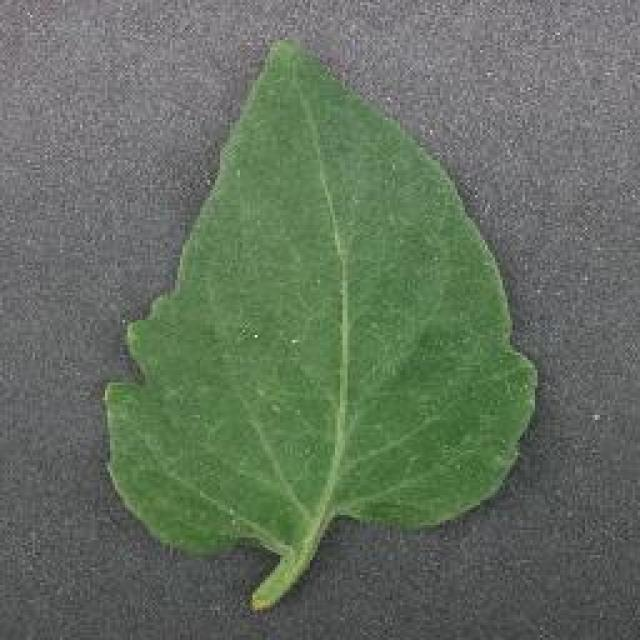Tomato_Healthy: (96, 28, 546, 546)
